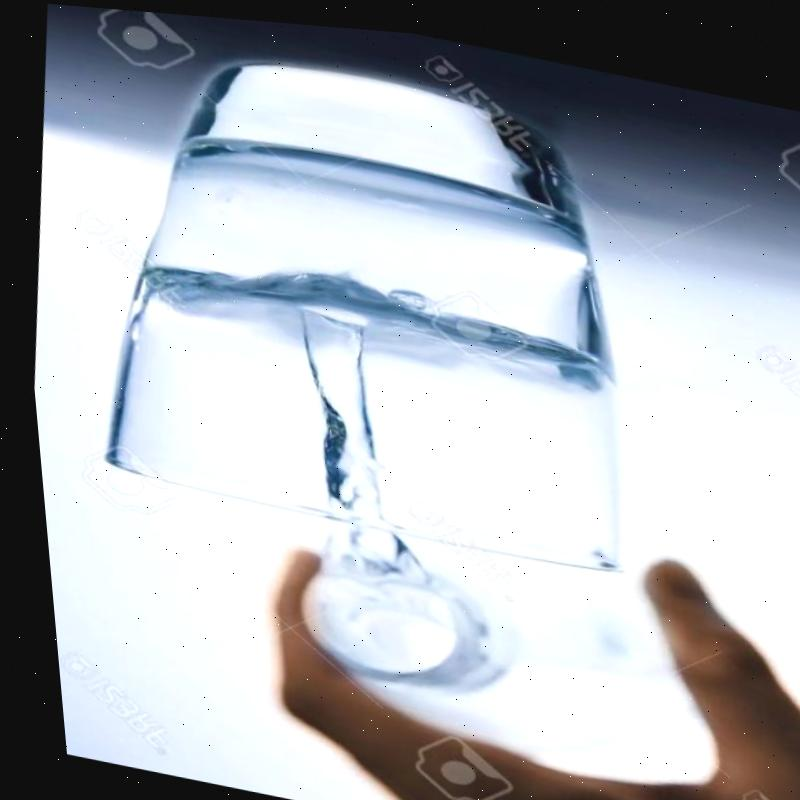botella: (266, 526, 698, 784)
